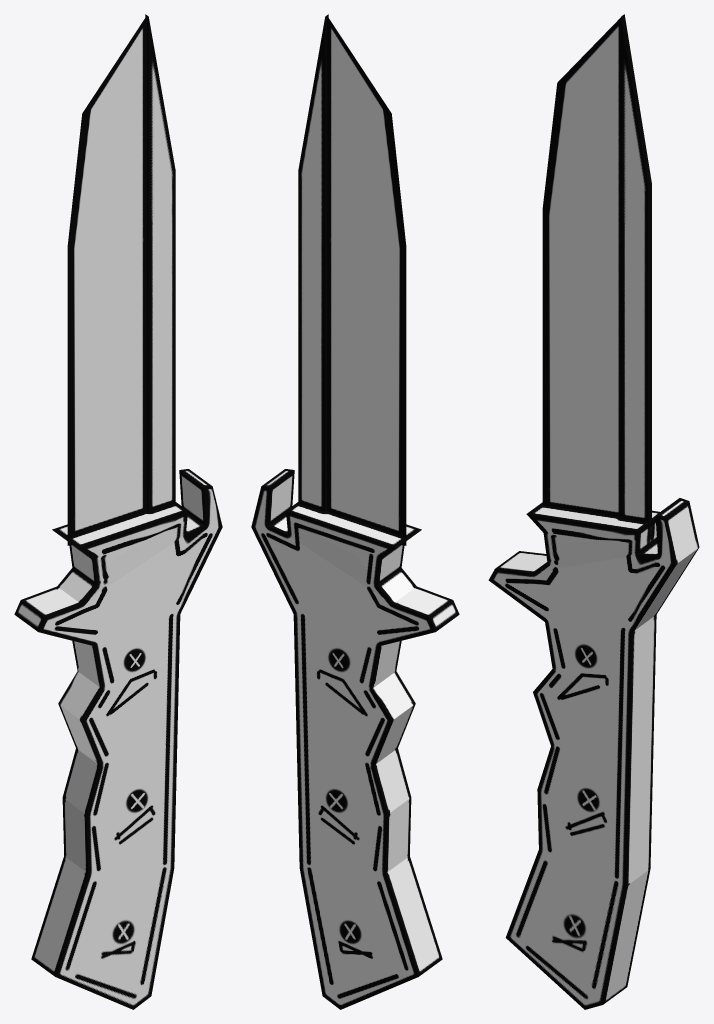
The model's file is Knife.fbx.
3 renders of one model, left to right at view 1: azimuth 30°, elevation 25°; view 2: azimuth 150°, elevation 25°; view 3: azimuth 330°, elevation 25°, orthographic.
Parts seen in each view (by area): view 1: Vert; view 2: Vert; view 3: Vert.
Boxes of the visible parts, x1,y1,x2,y2 form: Vert: (14,14,222,1009); Vert: (251,14,459,1009); Vert: (488,14,699,1009).
Bounding box in the file's own units: 6.94 × 35.24 × 1.65.
Materials: 1 (1 with a texture image).
